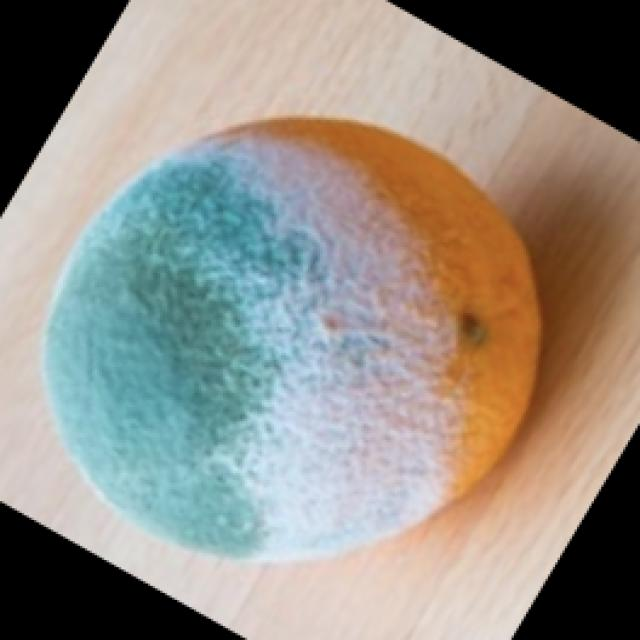sangat_busuk: (42, 111, 544, 565)
